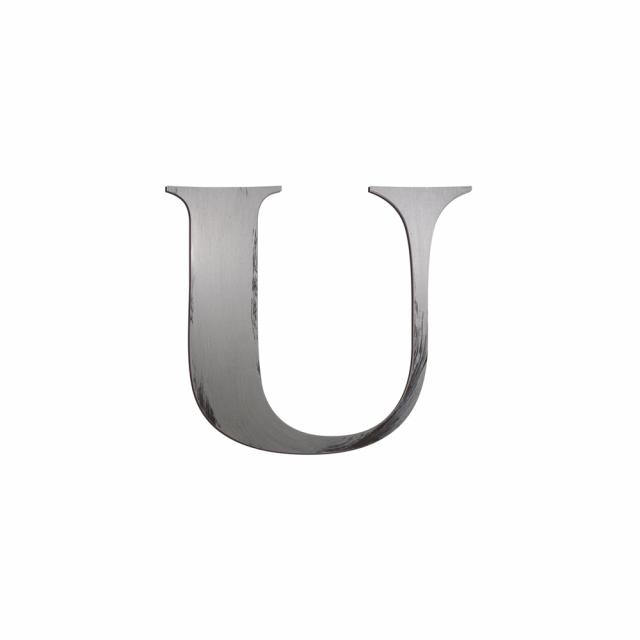U: (145, 149, 479, 483)
